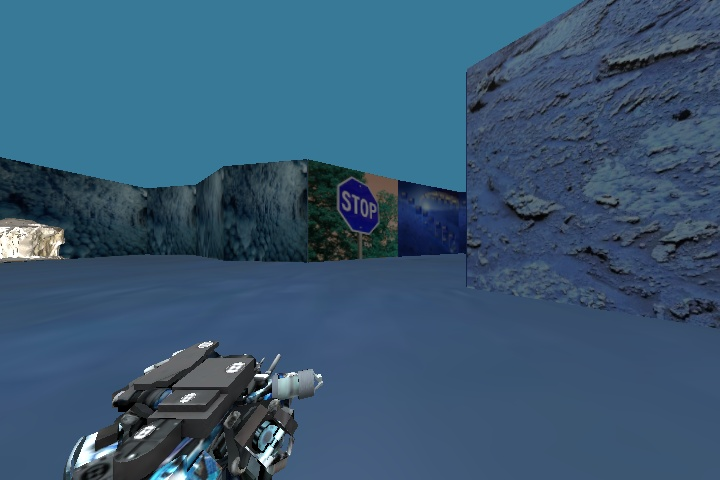formation: (1, 212, 74, 263)
stop_sign: (324, 175, 390, 242)
